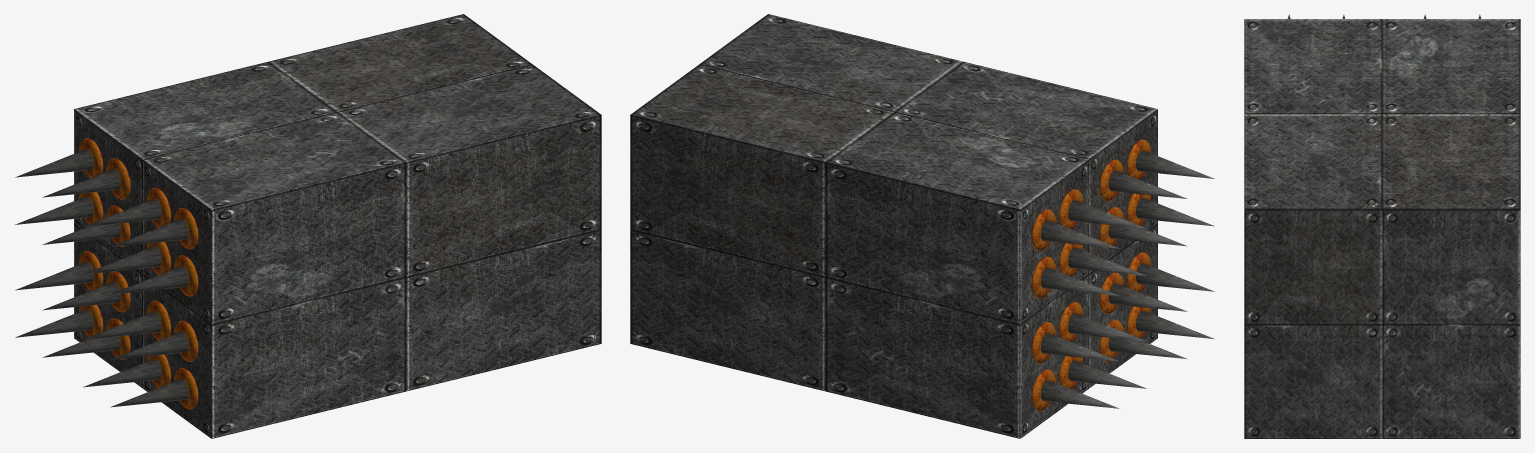
The model's file is Armadilhas Grandes.fbx.
3 views of the same model, side by side, from view 1: azimuth 30°, elevation 25°; view 2: azimuth 150°, elevation 25°; view 3: azimuth 270°, elevation 25° (orthographic).
Visible parts, largest first — view 1: Parede_da_Armadilha, Espinho_da_Armadilha35, Espinho_da_Armadilha46, Espinho_da_Armadilha42, Espinho_da_Armadilha33, Espinho_da_Armadilha38, Espinho_da_Armadilha36, Espinho_da_Armadilha47, Espinho_da_Armadilha48, Espinho_da_Armadilha45, Espinho_da_Armadilha41, Espinho_da_Armadilha43 (+5 smaller); view 2: Parede_da_Armadilha, Espinho_da_Armadilha34, Espinho_da_Armadilha41, Espinho_da_Armadilha48, Espinho_da_Armadilha40, Espinho_da_Armadilha47, Espinho_da_Armadilha35, Espinho_da_Armadilha46, Espinho_da_Armadilha45, Espinho_da_Armadilha36, Espinho_da_Armadilha33, Espinho_da_Armadilha44 (+5 smaller); view 3: Parede_da_Armadilha.
Part boxes in pixels (<box>): Parede_da_Armadilha: <box>74,14,601,438</box>; Espinho_da_Armadilha35: <box>110,208,198,249</box>; Espinho_da_Armadilha46: <box>42,158,130,199</box>; Espinho_da_Armadilha42: <box>110,368,198,409</box>; Espinho_da_Armadilha33: <box>110,320,198,361</box>; Espinho_da_Armadilha38: <box>110,255,198,296</box>; Espinho_da_Armadilha36: <box>83,300,171,340</box>; Espinho_da_Armadilha47: <box>15,138,103,177</box>; Espinho_da_Armadilha48: <box>83,187,171,227</box>; Espinho_da_Armadilha45: <box>42,271,130,312</box>; Espinho_da_Armadilha41: <box>15,251,103,290</box>; Espinho_da_Armadilha43: <box>83,354,171,387</box>; Parede_da_Armadilha: <box>630,14,1157,438</box>; Espinho_da_Armadilha34: <box>1031,369,1119,410</box>; Espinho_da_Armadilha41: <box>1031,322,1119,363</box>; Espinho_da_Armadilha48: <box>1099,159,1187,200</box>; Espinho_da_Armadilha40: <box>1031,256,1119,297</box>; Espinho_da_Armadilha47: <box>1031,209,1119,250</box>; Espinho_da_Armadilha35: <box>1126,139,1214,179</box>; Espinho_da_Armadilha46: <box>1058,189,1146,229</box>; Espinho_da_Armadilha45: <box>1058,302,1147,341</box>; Espinho_da_Armadilha36: <box>1099,272,1187,313</box>; Espinho_da_Armadilha33: <box>1126,252,1215,292</box>; Espinho_da_Armadilha44: <box>1058,356,1147,389</box>; Parede_da_Armadilha: <box>1244,19,1520,438</box>.
Bounding box in the file's own units: 11.81 × 5.5 × 6.
3 materials, 3 textured.
